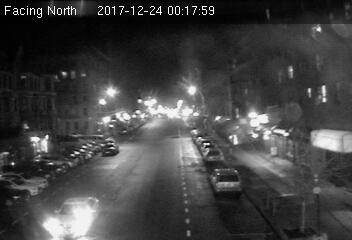car: (43, 196, 103, 240), (210, 165, 242, 195), (205, 147, 222, 162), (101, 142, 119, 156)
